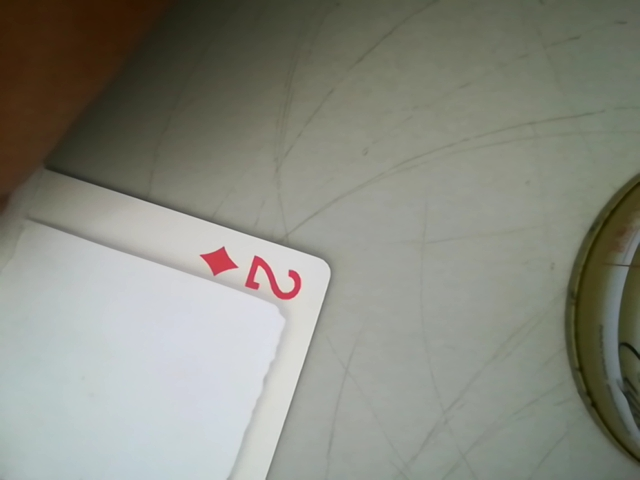fk 2: (198, 245, 321, 307)
